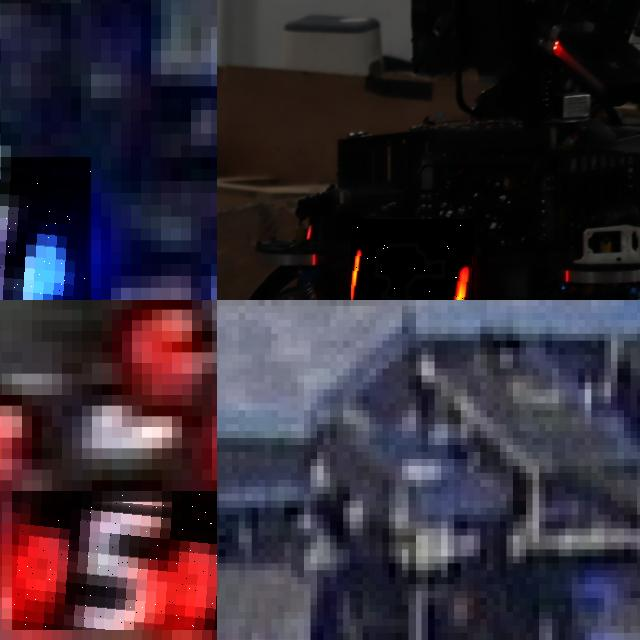B4: (0, 157, 91, 300)
R5: (12, 491, 217, 629)
Rs: (350, 219, 474, 300)
